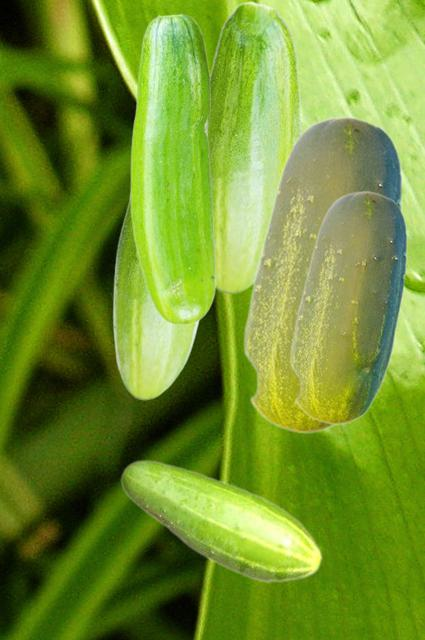cucumber: (242, 115, 401, 433), (289, 190, 406, 424), (209, 1, 301, 293), (130, 13, 215, 324), (120, 459, 322, 583), (112, 189, 201, 399)
